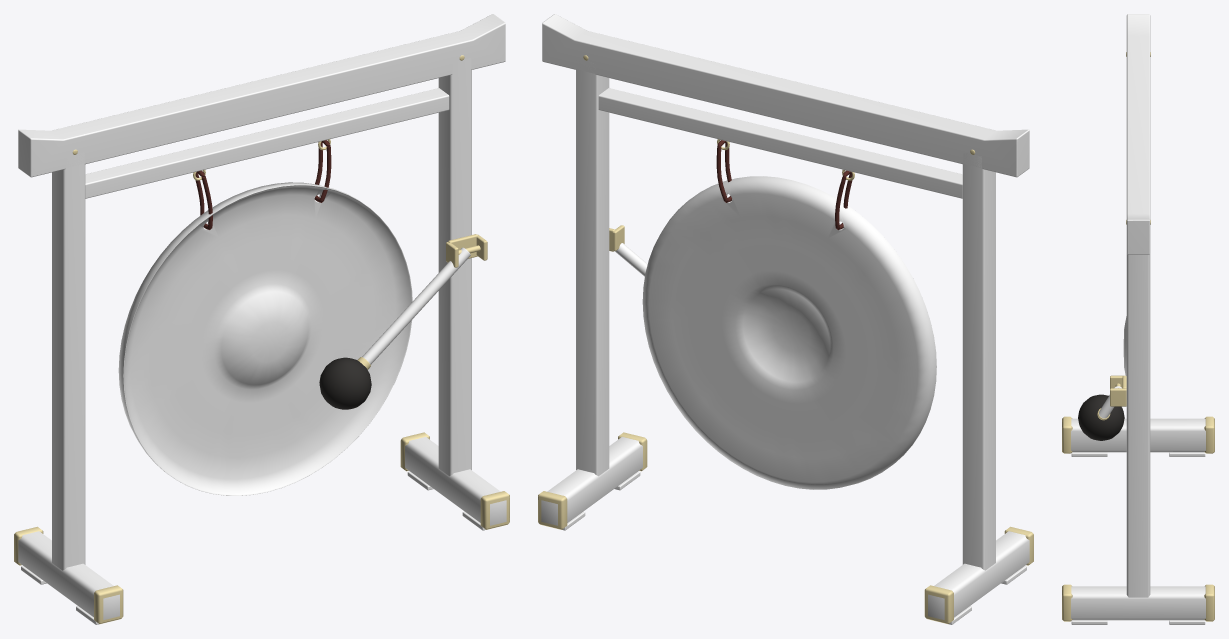
3 renders of one model, left to right at view 1: azimuth 30°, elevation 25°; view 2: azimuth 150°, elevation 25°; view 3: azimuth 270°, elevation 25°, orthographic. The views are drawn at different scales.
Parts seen in each view (by area): view 1: GongDisc, Fixed / Set wood / Walnut, Mallet, Fixed / Polished pale brass, Fixed / Oxblood waxed cotton; view 2: GongDisc, Fixed / Set wood / Walnut, Fixed / Polished pale brass, Fixed / Oxblood waxed cotton; view 3: Fixed / Set wood / Walnut, Fixed / Polished pale brass, Mallet, Fixed / Dense charcoal wool felt.
Boxes of the visible parts, x1=… form: GongDisc: x1=118, y1=182, x2=412, y2=495; Fixed / Set wood / Walnut: x1=18, y1=14, x2=506, y2=619; Mallet: x1=319, y1=247, x2=470, y2=409; Fixed / Polished pale brass: x1=14, y1=55, x2=509, y2=624; Fixed / Oxblood waxed cotton: x1=195, y1=140, x2=331, y2=229; GongDisc: x1=642, y1=176, x2=936, y2=489; Fixed / Set wood / Walnut: x1=541, y1=14, x2=1029, y2=619; Fixed / Polished pale brass: x1=538, y1=55, x2=1033, y2=624; Fixed / Oxblood waxed cotton: x1=716, y1=140, x2=852, y2=229; Fixed / Set wood / Walnut: x1=1071, y1=14, x2=1205, y2=620; Fixed / Polished pale brass: x1=1062, y1=52, x2=1214, y2=621; Mallet: x1=1078, y1=386, x2=1124, y2=440; Fixed / Dense charcoal wool felt: x1=1071, y1=452, x2=1205, y2=624.
Bounding box in the file's own units: 0.23 × 0.2181 × 0.072.
